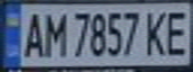5: (103, 8, 127, 56)
7: (121, 8, 145, 56), (69, 8, 90, 57)
8: (87, 8, 109, 57)
A: (18, 8, 48, 59)
E: (160, 6, 193, 56)
K: (142, 7, 172, 56)
M: (39, 8, 69, 59)
